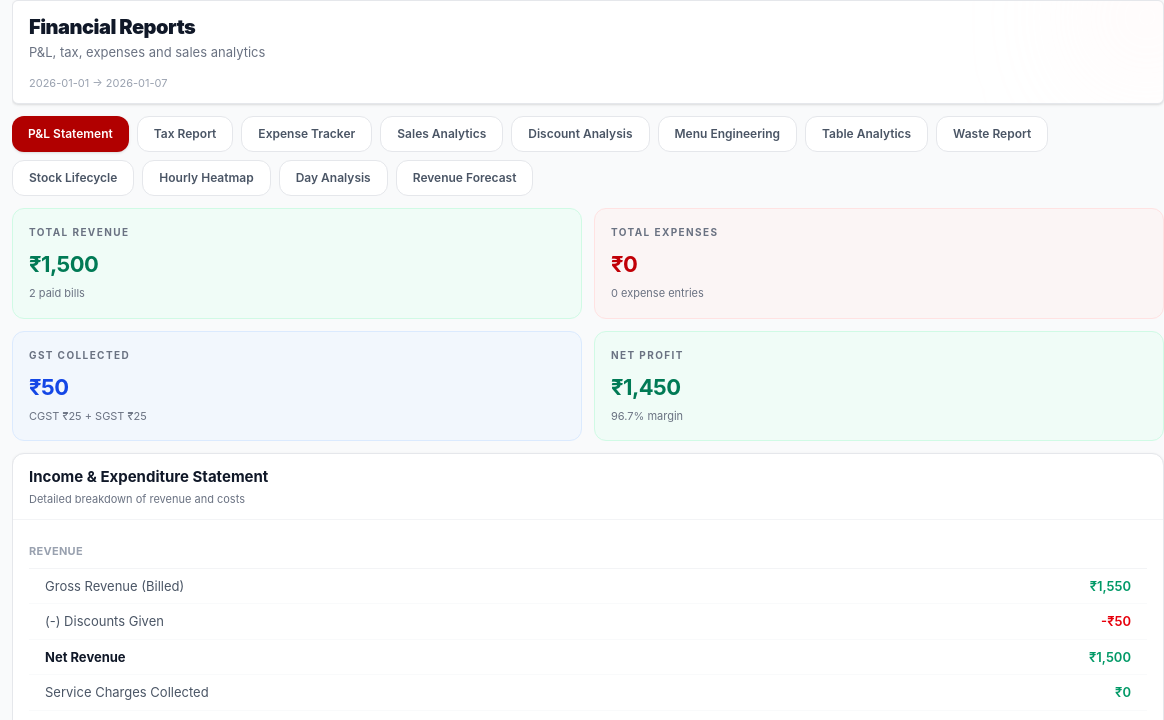
Reports page — characterisation › renders the Day Analysis tab's own content
Click the button "Day Analysis" at (333, 178), box x1=279 y1=160 x2=388 y2=196
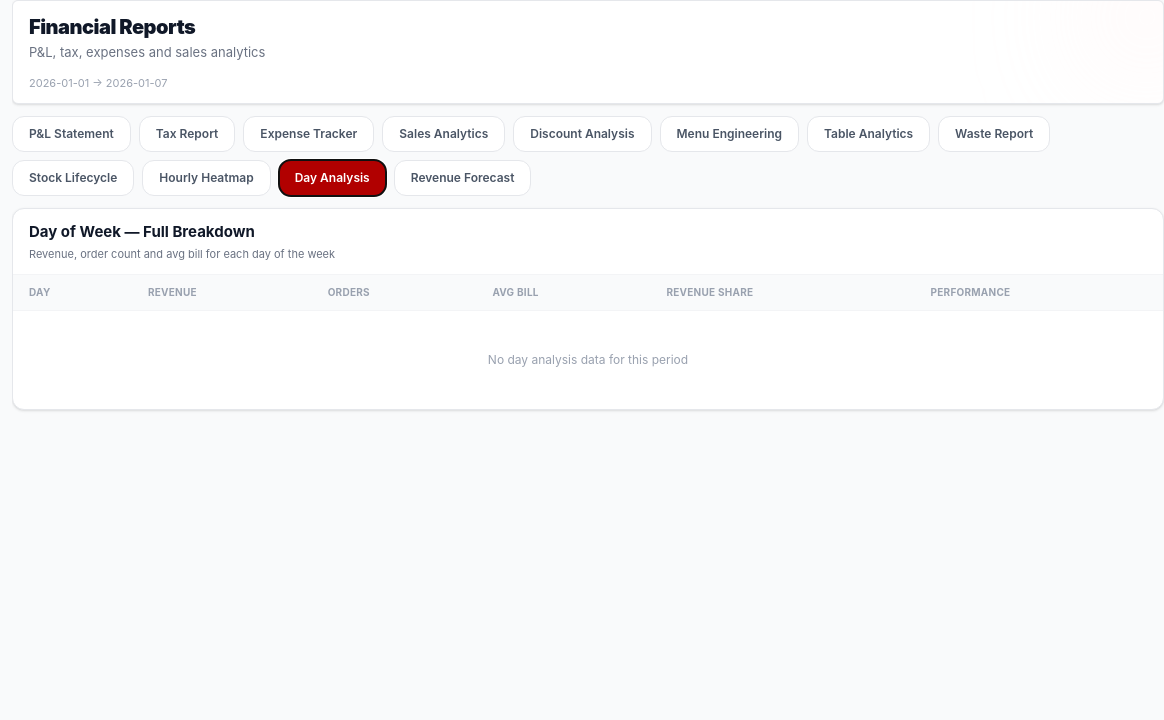
expect the column heading "Revenue Share" is shown: met, box x1=650 y1=275 x2=914 y2=310
